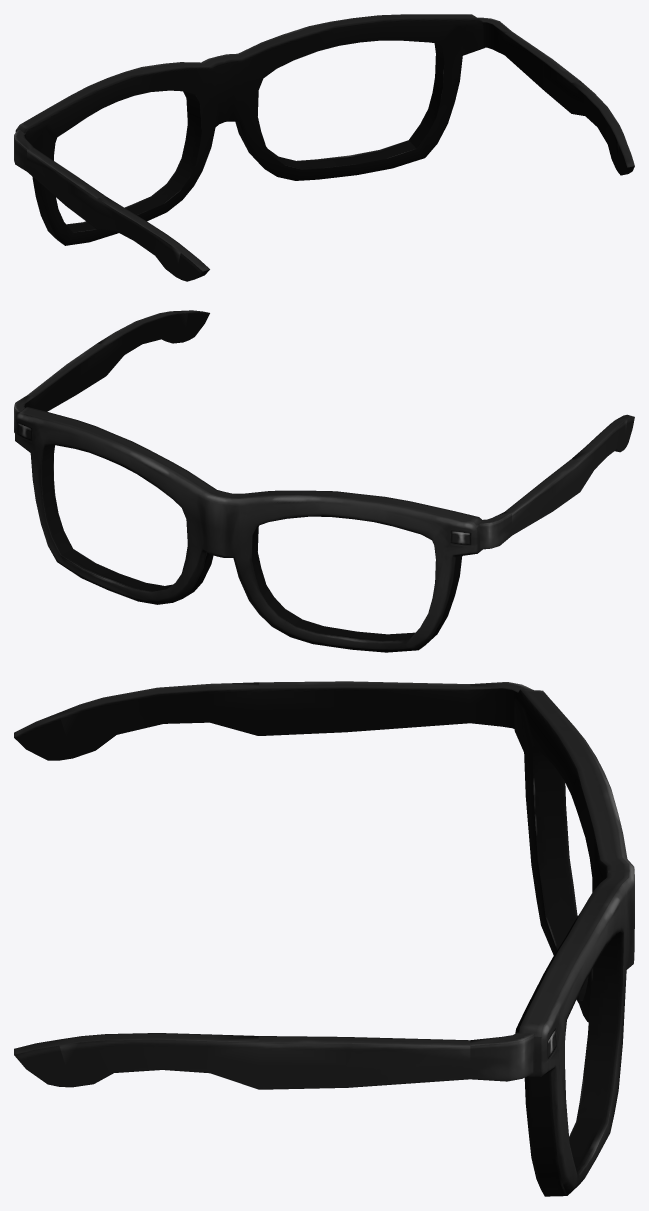
The picture shows the model from 3 angles, top to bottom: view 1: azimuth 30°, elevation 25°; view 2: azimuth 150°, elevation 25°; view 3: azimuth 270°, elevation 25°; orthographic projection. The views are drawn at different scales.
Parts seen in each view (by area): view 1: geometry_0; view 2: geometry_0; view 3: geometry_0.
Part boxes in pixels (<box>): geometry_0: <box>14,14,634,281</box>; geometry_0: <box>14,310,634,652</box>; geometry_0: <box>14,681,634,1196</box>.
Bounding box in the file's own units: 1.3 × 0.3876 × 0.9429.
Materials: 1 (1 with a texture image).
